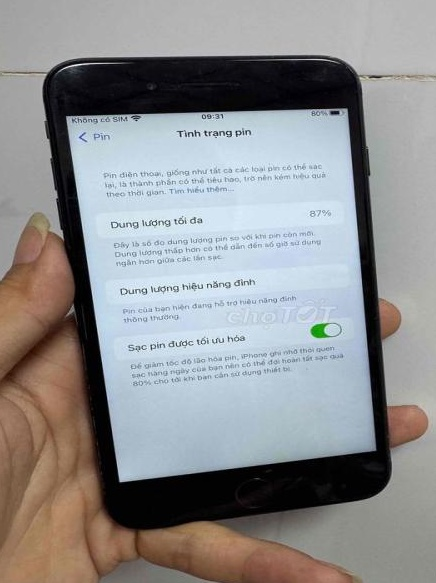scratch: (296, 51, 367, 93), (86, 383, 110, 484), (167, 75, 247, 94), (55, 52, 87, 93), (384, 422, 395, 469)
